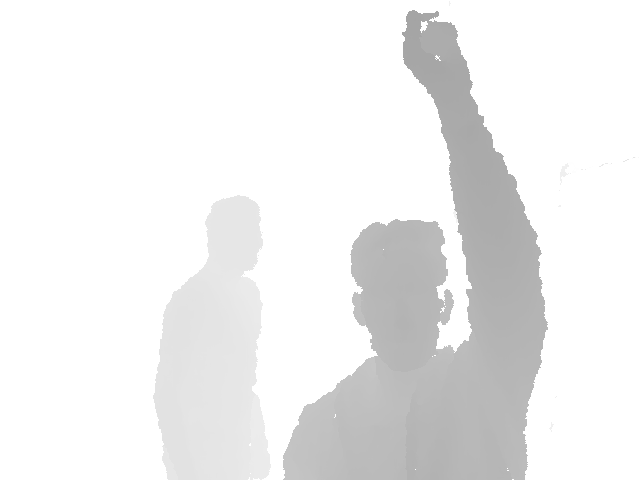hand: (401, 9, 473, 99)
head: (349, 218, 454, 369), (204, 194, 263, 278)
person: (282, 9, 547, 479), (152, 194, 273, 479)
